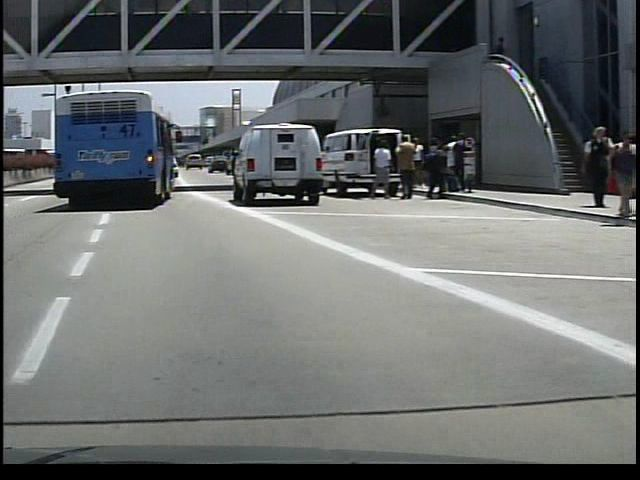person: (389, 132, 414, 201), (365, 134, 389, 198)
